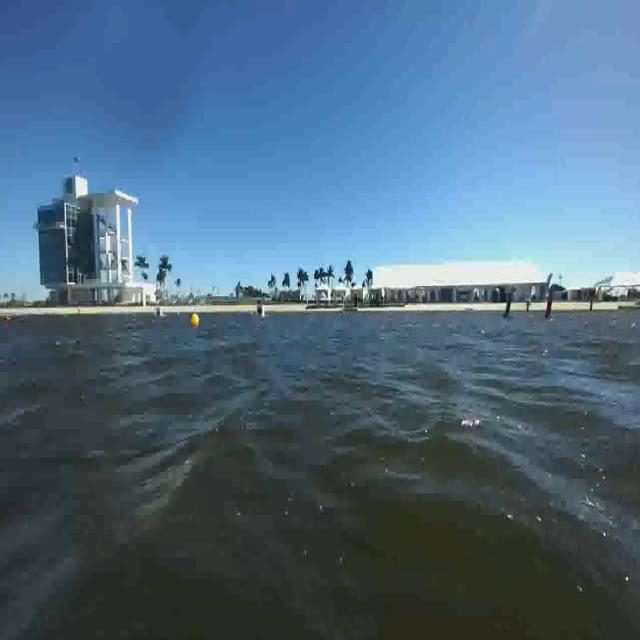green-column-buoy: (501, 292, 515, 321)
red-column-buoy: (544, 292, 554, 318)
yellow-buoy: (190, 312, 199, 329)
